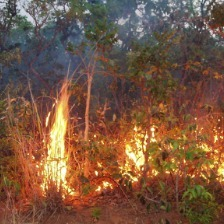incendio: (7, 158, 83, 210), (111, 144, 153, 193), (30, 109, 78, 147), (121, 119, 175, 141), (49, 77, 79, 108), (186, 143, 215, 174)
